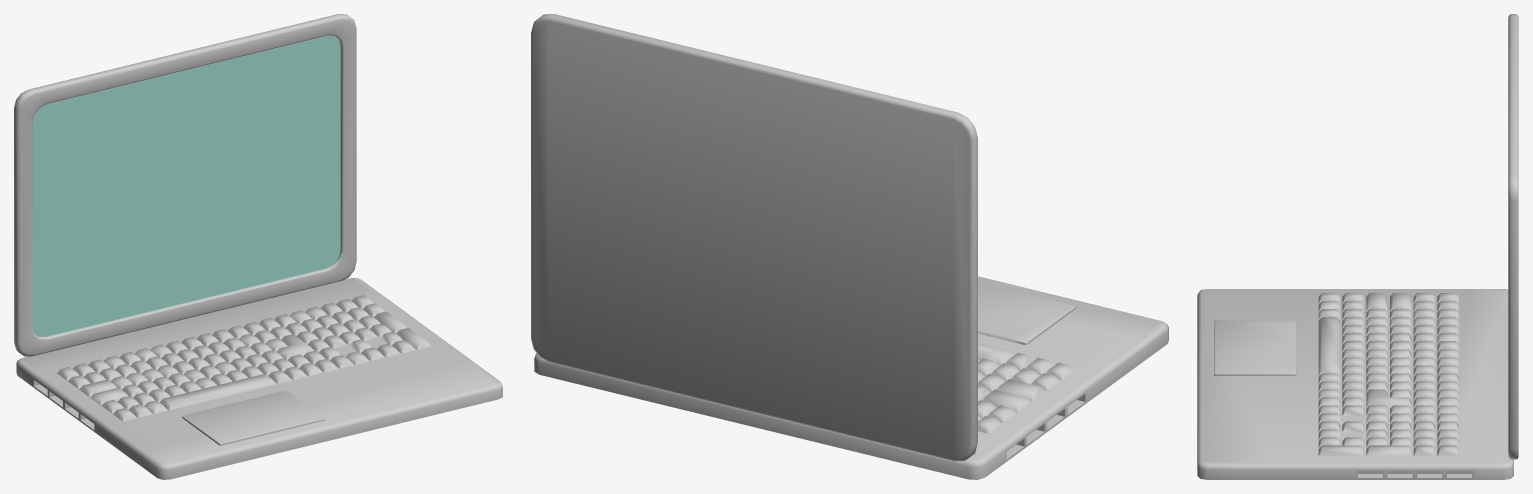
The model's file is Laptop.fbx.
3 views of the same model, side by side, from view 1: azimuth 30°, elevation 25°; view 2: azimuth 150°, elevation 25°; view 3: azimuth 270°, elevation 25° (orthographic). The views are drawn at different scales.
Visible parts, largest first — view 1: Laptop.001, Laptop; view 2: Laptop.001, Laptop; view 3: Laptop, Laptop.001.
Boxes of the visible parts, box(x1,y1,x2,y2) form: Laptop.001: box(14, 14, 356, 356); Laptop: box(16, 278, 502, 479); Laptop.001: box(531, 14, 977, 461); Laptop: box(534, 276, 1168, 479); Laptop: box(1197, 289, 1513, 479); Laptop.001: box(1508, 14, 1518, 459).
Bounding box in the file's own units: 0.4 × 0.3081 × 0.3045.
